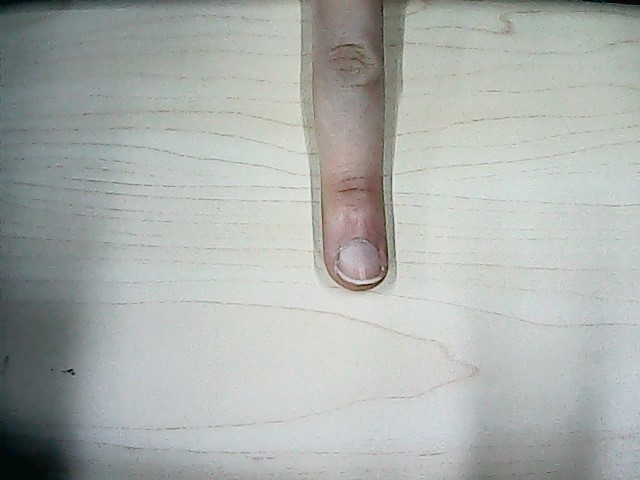nail: (338, 244, 381, 283)
